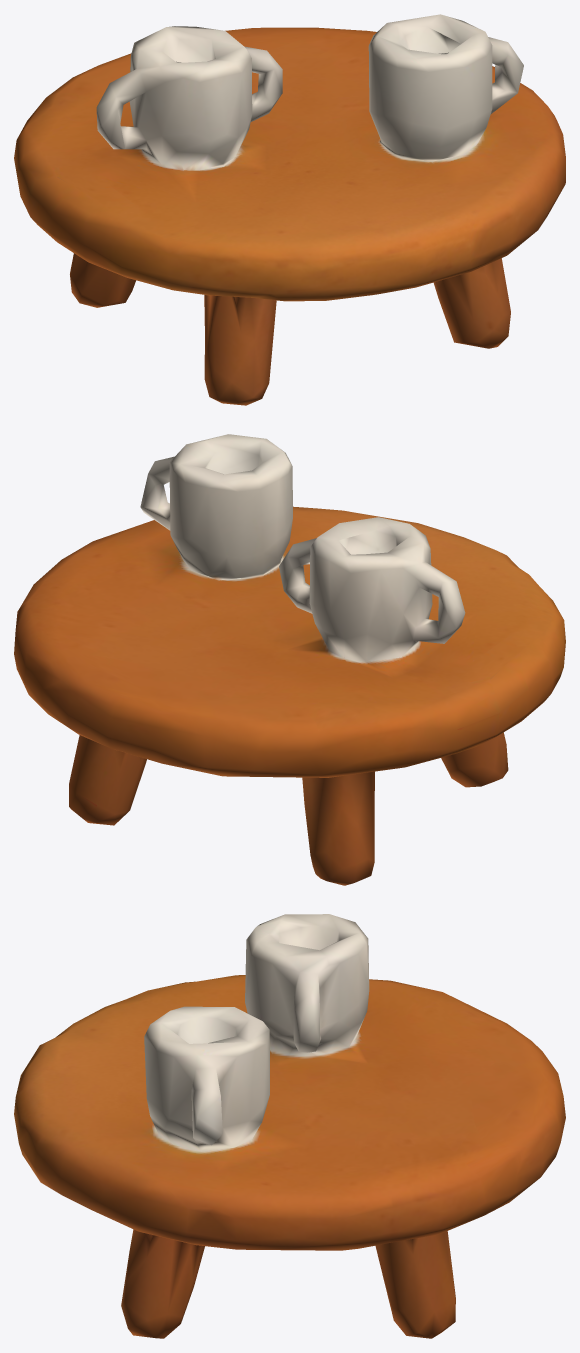
File: table_basse.glb
3 views of the same model, one above another, from view 1: azimuth 30°, elevation 25°; view 2: azimuth 150°, elevation 25°; view 3: azimuth 270°, elevation 25° (orthographic).
Parts seen in each view (by area): view 1: table_basse; view 2: table_basse; view 3: table_basse.
Boxes of the visible parts, x1,y1,x2,y2 form: table_basse: (14, 14, 565, 405); table_basse: (14, 434, 565, 885); table_basse: (14, 914, 565, 1338).
Bounding box in the file's own units: 0.1699 × 0.0987 × 0.1677.
1 material, 1 textured.
